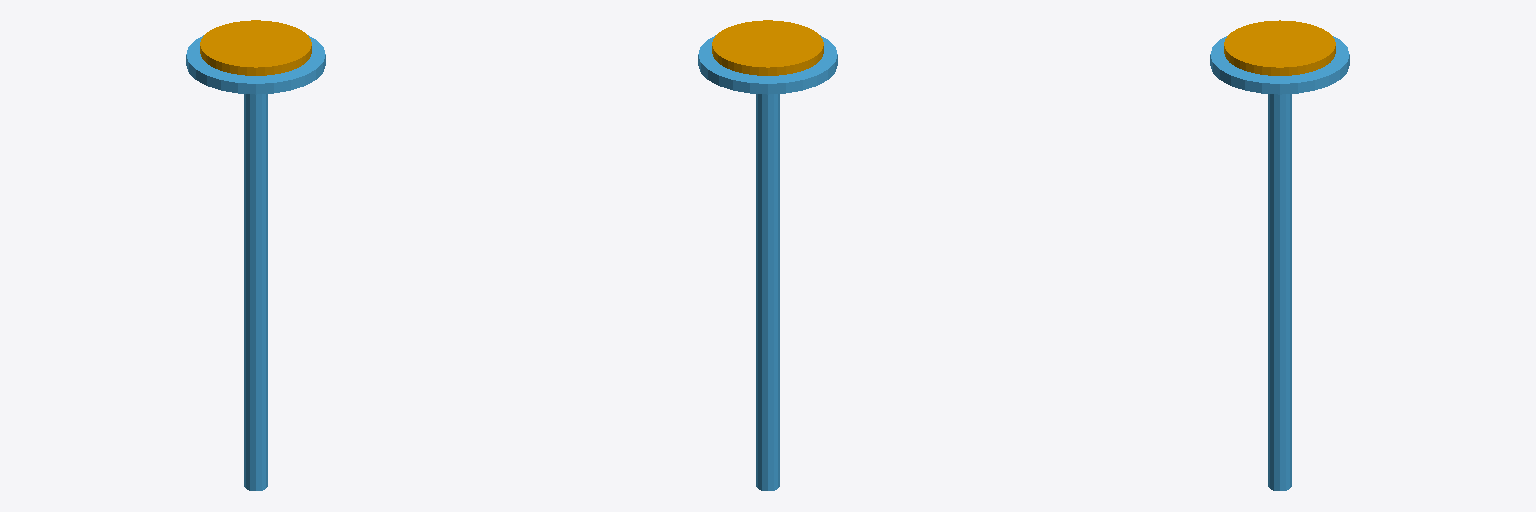
URDF robot description (rokea):
<?xml version="1.0" encoding="utf-8"?>

<robot  name="rokea"   xmlns:xacro="http://wiki.ros.org/xacro">


<!--link 4--> 
  <link    name="tool_base_link">
    <inertial>
      <origin        xyz="0 0 0"        rpy="0 0 0" />
      <mass        value="0.01453" />
      <inertia
        ixx="3.22"
        ixy="2.35"
        ixz="3.38"
        iyy="3.22"
        iyz="-1.14"
        izz="6.36" />
    </inertial>

    <visual>
      <geometry>
        <mesh          filename="package://rokae_desk/meshes/tool_base_link.stl" />
      </geometry>
	      <origin rpy="0 0 0" xyz="0.0 0.0 0.0"/>
      <material name="white"/>
    </visual>

    <collision>
      <geometry>
        <mesh          filename="package://rokae_desk/meshes/tool_base_link.stl" />
      </geometry>
	    <origin rpy="0 0 0" xyz="0.0 0.0 0.0"/>
    </collision>

  </link>
  
  
   <joint    name="tool_taotong"    type="continuous">
    <parent      link="tool_base_link" />
    <child      link="tool_link" />
    <axis      xyz="0 0 -1" />
    <origin      xyz="0 0 0"      rpy="0 0 0" />
  </joint>
  



  <transmission name="tool_base_tran">
    <type>transmission_interface/SimpleTransmission</type>
    <joint name="tool_taotong">
      <hardwareInterface>hardware_interface/PositionJointInterface</hardwareInterface>
    </joint>
    <actuator name="motor_tool_base">
      <hardwareInterface>hardware_interface/PositionJointInterface</hardwareInterface>
      <mechanicalReduction>1</mechanicalReduction>
    </actuator>
  </transmission>


  <gazebo reference="tool_base_link">
     <material>Gazebo/Green</material>
  </gazebo>



<!-- tool_Link -->
  <link    name="tool_link">
    <visual>
      <geometry>
        <mesh          filename="package://rokae_desk/meshes/tool_Link.stl"  scale="1.25 1.25 1.25"/>
       
      </geometry>
	    <origin rpy="0 0 0" xyz="0 0 0"/>
      <material name="white"    />
    </visual>
    
    <inertial>
      <mass        value="0.0282087806682537" />
      <inertia
        ixx="0.000106"
        ixy="-8.0779"
        ixz="-3.99"
        iyy="0.000106"
        iyz="-1.185"
        izz="6.544" />    
      <origin        xyz="5.20417042793042E-18 3.79470760369927E-19 -0.0550139882029437"        rpy="0 0 0" />
    </inertial>
    
    <collision>
      <geometry>
        <cylinder length="0.04" radius="0.02"/>
        <mesh          filename="package://rokae_desk/meshes/tool_Link.stl" />
      </geometry>
	    <origin rpy="0 0 0" xyz="0 0 0"/>
    </collision>
  </link>



  <gazebo reference="tool_Link">
     <material>Gazebo/BlackTransparent</material>
  </gazebo>


<!-- ros_control plugin
<gazebo>
  <plugin name="gazebo_ros_control" filename="libgazebo_ros_control.so">
    <robotNamespace>/camera_taotong</robotNamespace>
    <robotSimType>gazebo_ros_control/DefaultRobotHWSim</robotSimType>
    <legacyModeNS>true</legacyModeNS>
  </plugin>
</gazebo>
-->
</robot>

--- Facts derived from the render (not from the file) ---
Views: 3 orthographic renders of the robot side by side, from view 1: azimuth 30°, elevation 25°; view 2: azimuth 150°, elevation 25°; view 3: azimuth 270°, elevation 25°.
Model rokea with 2 links and 1 joints (1 continuous), rooted at tool_base_link, posed all joints at 0.
Visible links, largest first — view 1: tool_link, tool_base_link; view 2: tool_link, tool_base_link; view 3: tool_link, tool_base_link.
Link boxes in pixels (x1,y1,x2,y2): tool_link: [186, 35, 325, 490]; tool_base_link: [200, 20, 311, 75]; tool_link: [698, 35, 837, 490]; tool_base_link: [712, 20, 823, 75]; tool_link: [1210, 36, 1349, 490]; tool_base_link: [1224, 20, 1335, 75].
Bounding box of the posed robot: 0.075 × 0.075 × 0.2625 m (x, y, z).
2 mesh visuals loaded from 2 distinct referenced files (2 binary STL).
